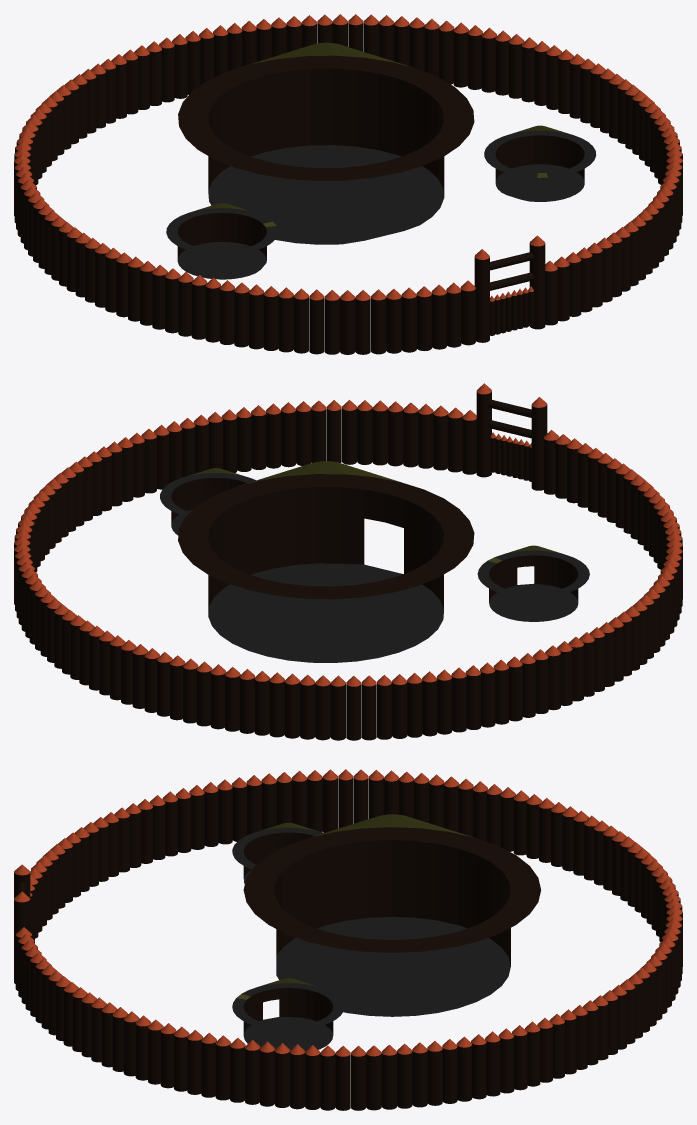
Rendered from baseCiudades.obj.
3 renders of one model, top to bottom at view 1: azimuth 30°, elevation 25°; view 2: azimuth 150°, elevation 25°; view 3: azimuth 270°, elevation 25°, orthographic.
Parts seen in each view (by area): view 1: Circle.002_Circle.006; view 2: Circle.002_Circle.006; view 3: Circle.002_Circle.006.
Boxes of the visible parts, x1,y1,x2,y2 form: Circle.002_Circle.006: (14, 14, 682, 354); Circle.002_Circle.006: (14, 383, 682, 740); Circle.002_Circle.006: (14, 769, 682, 1110).
Bounding box in the file's own units: 16.69 × 3.97 × 16.66.
